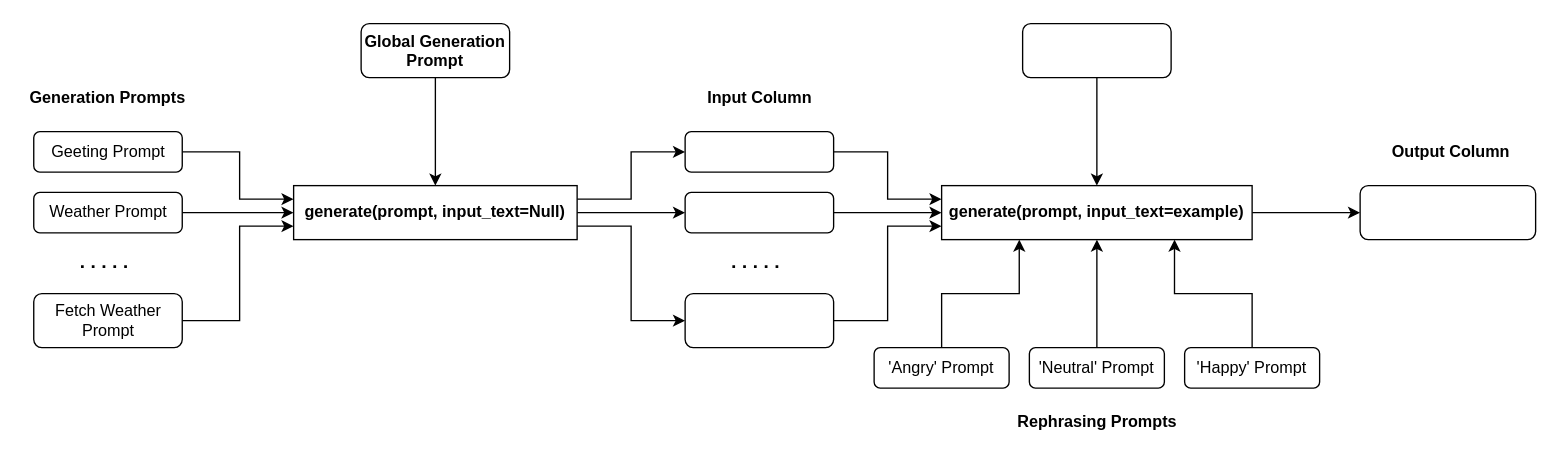
Some shapes in this 1559 by 466 pixel diagram are drawn without their labels. Here are the shapes that lost their labels. From the top down, the centre of each, then its label:
At pixel 1096 50: "Global Rephrasing Prompt".
At pixel 759 151: "Geeting Examples".
At pixel 759 212: "Weather Examples".
At pixel 1447 212: "Rephrased Examples".
At pixel 759 320: "Fetch Weather Examples".
